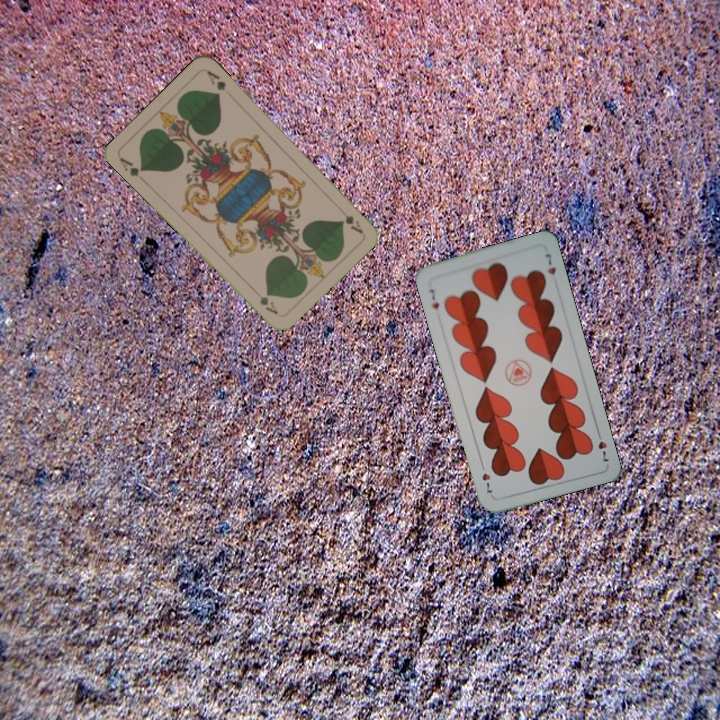GA: (115, 153, 147, 179), (341, 211, 366, 236)
H7: (593, 426, 612, 464), (425, 285, 442, 312)
